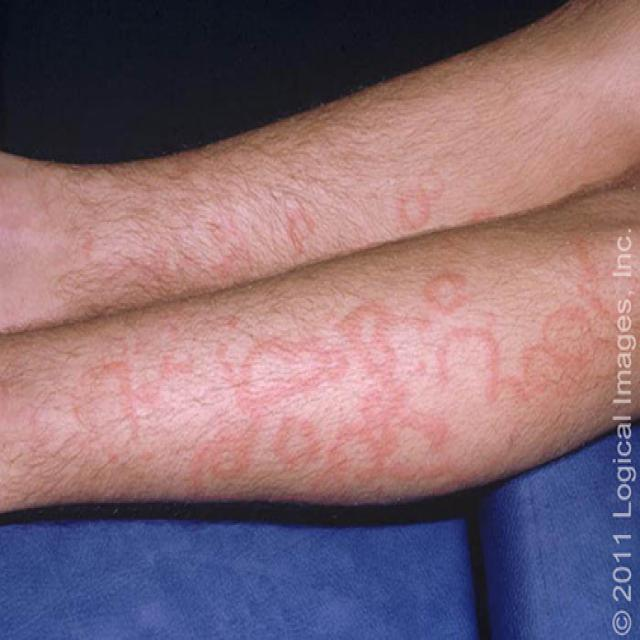Erythema marginatum: (202, 326, 420, 462), (443, 307, 578, 416)
